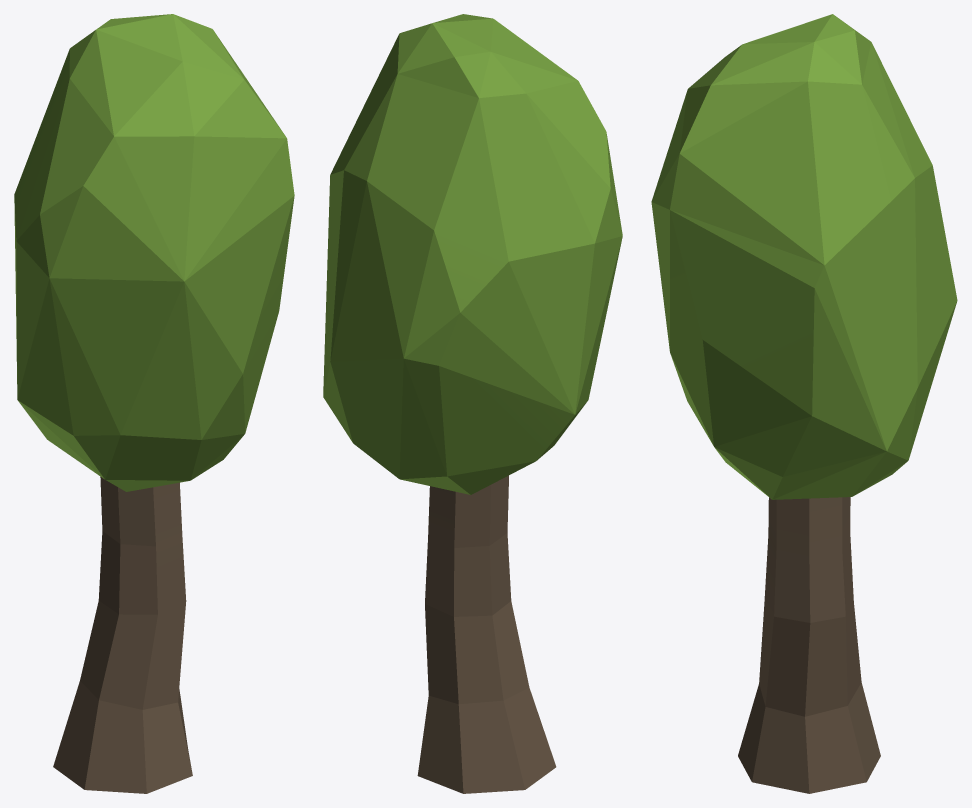
Rendered from Tree3.glb.
3 renders of one model, left to right at view 1: azimuth 30°, elevation 25°; view 2: azimuth 150°, elevation 25°; view 3: azimuth 270°, elevation 25°, orthographic.
Visible parts, largest first — view 1: Tree_3; view 2: Tree_3; view 3: Tree_3.
Part boxes in pixels (bbox=[...]): Tree_3: bbox=[14, 14, 294, 793]; Tree_3: bbox=[323, 14, 622, 793]; Tree_3: bbox=[651, 14, 957, 793].
Bounding box in the file's own units: 1.19 × 3.23 × 1.2.
1 material, 1 textured.
